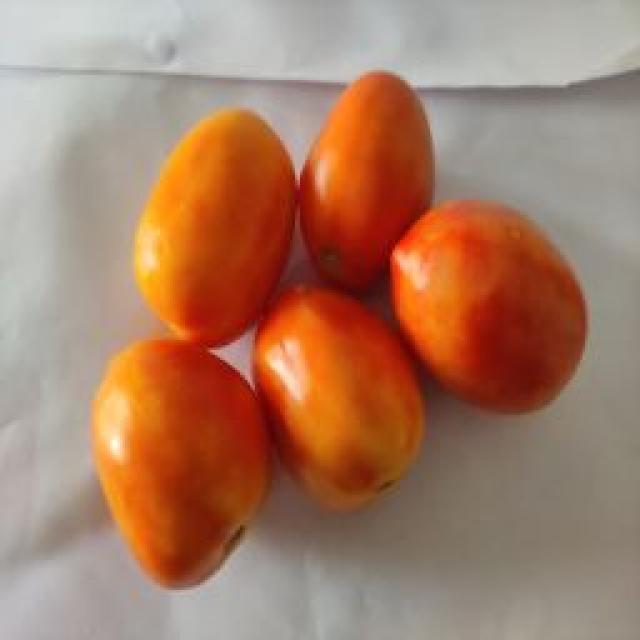tomato: (90, 336, 272, 590), (388, 199, 588, 414), (252, 281, 424, 513), (136, 107, 298, 349), (297, 71, 435, 289)
